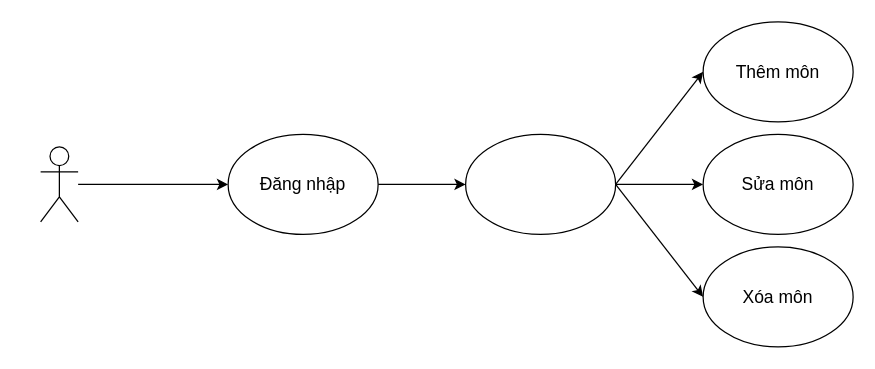
The diagram is 875 pixels wide and 369 high, and some of its shapes have lost their labels. The centre of each missing label's shape, as x and y in pixels:
"Quản lý môn học" goes at [540,183].
"Sinh Viên" goes at [58,184].
